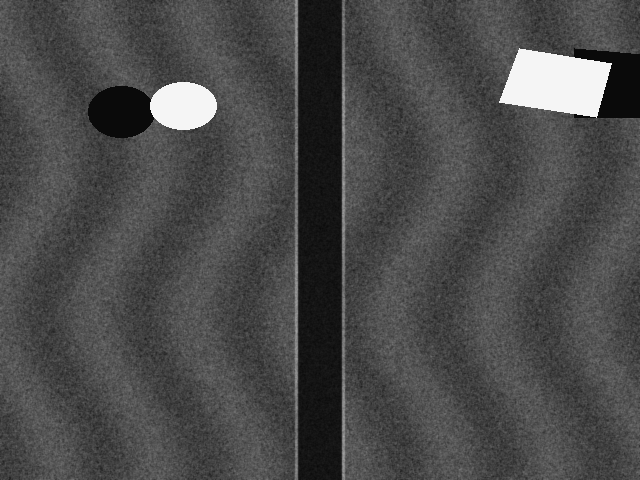Plastic Debris: (150, 82, 216, 129)
Unknown Anomaly: (499, 48, 611, 117)
